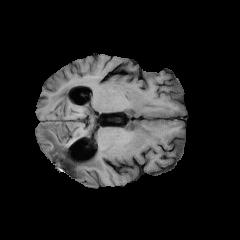glioma: (39, 87, 110, 175)
